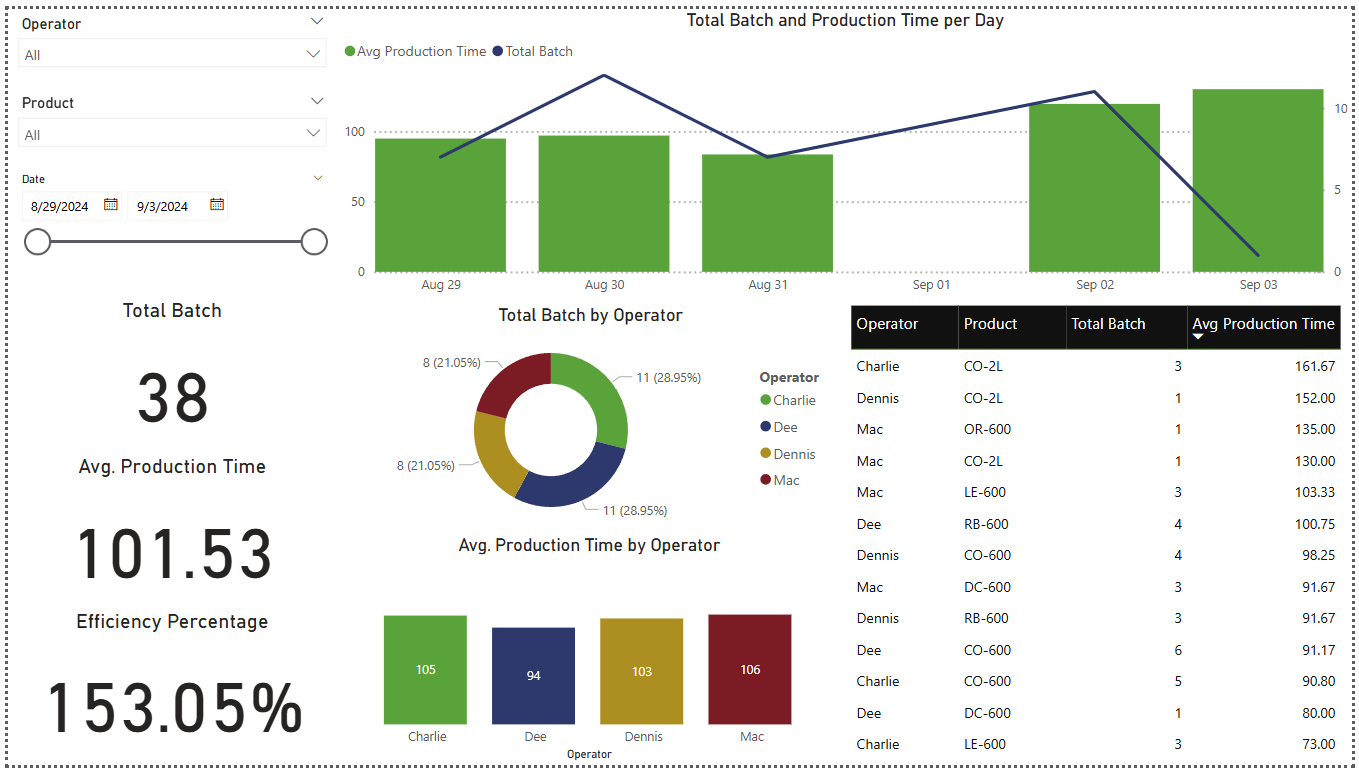

This screenshot's page, from the dashboard's own definition file:
{"tool":"powerbi","page":{"name":"Production Productivity","canvas":[1280,720],"ordinal":0},"visuals":[{"type":"lineClusteredColumnComboChart","title":"Total Batch and Production Time per Day","fields":{"Category":["public line_productivity.Date"],"Y":["Calculated.Avg_Production_Time"],"Y2":["Calculated.Total_Batch"]},"box":[313.8,0,966.2,280],"z":0},{"type":"card","title":"Total Batch","fields":{"Values":["Calculated.Total_Batch"]},"box":[0,276,313,148],"z":1000},{"type":"card","title":"Avg. Production Time","fields":{"Values":["Calculated.Avg_Production_Time"]},"box":[0,424,313,148],"z":2000},{"type":"slicer","fields":{"Values":["public line_productivity.Operator"]},"box":[0,0,313,75],"z":3000},{"type":"slicer","fields":{"Values":["public line_productivity.Date"]},"box":[0,150,313,130],"z":4000},{"type":"slicer","fields":{"Values":["public products.Product"]},"box":[0,75,313.3,75],"z":5000},{"type":"tableEx","fields":{"Values":["public line_productivity.Operator","public line_productivity.Product","Calculated.Total_Batch","Calculated.Avg_Production_Time"]},"box":[796.7,276.7,483.3,443.3],"z":6000},{"type":"card","title":"Efficiency Percentage","fields":{"Values":["Calculated.Efficiency_Percentage"]},"box":[0,572,313,147],"z":7000},{"type":"columnChart","title":"Avg. Production Time by Operator","fields":{"Category":["public line_productivity.Operator"],"Y":["Calculated.Avg_Production_Time"],"Series":["public line_productivity.Operator"]},"box":[312,500,484,220],"z":8000},{"type":"donutChart","title":"Total Batch by Operator","fields":{"Category":["public line_productivity.Operator"],"Y":["Calculated.Total_Batch"]},"box":[312.5,281.2,483.8,219],"z":9000}]}

Visuals, with their boxes in screenshot pixels (x1, y1, x2, y2), scaled from the page's 1280x720 canvas onto the 1359x772 screenshot:
"Total Batch and Production Time per Day" lineClusteredColumnComboChart: l=333, t=0, r=1358, b=300
"Total Batch" card: l=0, t=296, r=332, b=455
"Avg. Production Time" card: l=0, t=455, r=332, b=613
slicer - public line_productivity.Operator: l=0, t=0, r=332, b=80
slicer - public line_productivity.Date: l=0, t=161, r=332, b=300
slicer - public products.Product: l=0, t=80, r=333, b=161
tableEx - public line_productivity.Operator x public line_productivity.Product: l=846, t=297, r=1358, b=771
"Efficiency Percentage" card: l=0, t=613, r=332, b=771
"Avg. Production Time by Operator" columnChart: l=331, t=536, r=845, b=771
"Total Batch by Operator" donutChart: l=332, t=302, r=845, b=536
